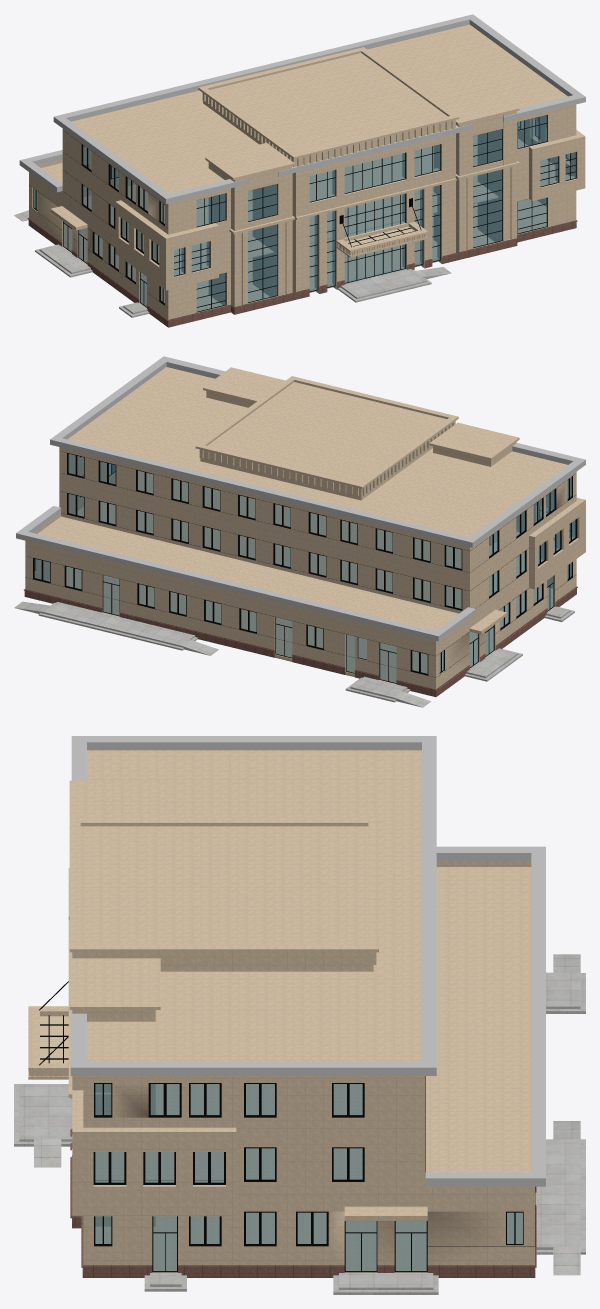
The model's file is YRY_MO.fbx.
3 views of the same model, one above another, from view 1: azimuth 30°, elevation 25°; view 2: azimuth 150°, elevation 25°; view 3: azimuth 270°, elevation 25° (orthographic). The views are drawn at different scales.
Parts seen in each view (by area): view 1: polySurface4; view 2: polySurface4; view 3: polySurface4.
Boxes of the visible parts, left/top/right/bottom form: polySurface4: left=14, top=14, right=585, bottom=327; polySurface4: left=14, top=356, right=585, bottom=707; polySurface4: left=14, top=736, right=585, bottom=1294.
Bounding box in the file's own units: 46.41 × 14.1 × 31.4.
